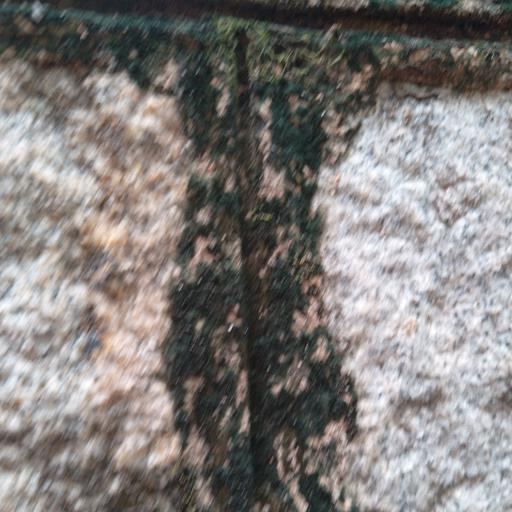algae: (44, 0, 426, 512)
